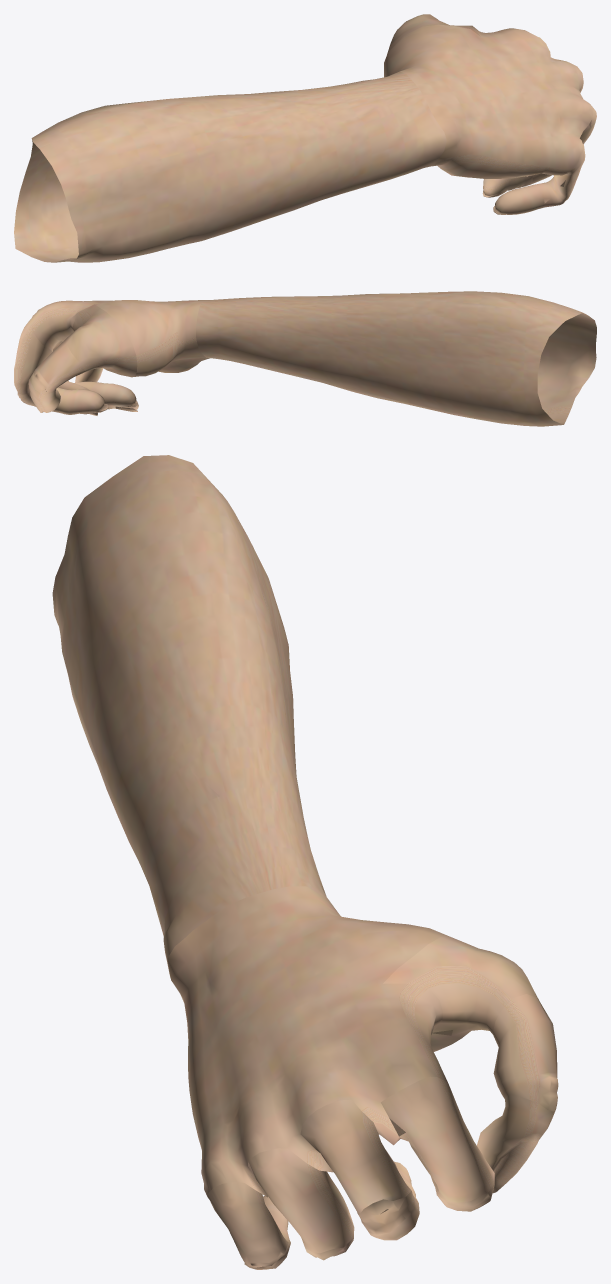
The model's file is Right_hand.obj.
The picture shows the model from 3 angles, top to bottom: view 1: azimuth 30°, elevation 25°; view 2: azimuth 150°, elevation 25°; view 3: azimuth 270°, elevation 25°; orthographic projection. The views are drawn at different scales.
Parts seen in each view (by area): view 1: Right_hand_polySurface1 polySurface59, polySurface58 Right_hand_polySurface1, Right_hand_polySurface1 polySurface73, Right_hand_polySurface1 polySurface61, Right_hand_polySurface1 polySurface74, Right_hand_polySurface1 polySurface71, Right_hand_polySurface1 polySurface69; view 2: Right_hand_polySurface1 polySurface59, polySurface58 Right_hand_polySurface1, Right_hand_polySurface1 polySurface61, Right_hand_polySurface1 polySurface63, Right_hand_polySurface1 polySurface65, Right_hand_polySurface1 polySurface60, Right_hand_polySurface1 polySurface71, Right_hand_polySurface1 polySurface62, Right_hand_polySurface1 polySurface69, Right_hand_polySurface1 polySurface67; view 3: Right_hand_polySurface1 polySurface59, polySurface58 Right_hand_polySurface1, Right_hand_polySurface1 polySurface61, Right_hand_polySurface1 polySurface65, Right_hand_polySurface1 polySurface64, Right_hand_polySurface1 polySurface68, Right_hand_polySurface1 polySurface63, Right_hand_polySurface1 polySurface69, Right_hand_polySurface1 polySurface62, Right_hand_polySurface1 polySurface66.
Part boxes in pixels (x1,y1,x2,y2): Right_hand_polySurface1 polySurface59: (14,71,446,262); polySurface58 Right_hand_polySurface1: (384,24,593,178); Right_hand_polySurface1 polySurface73: (493,187,532,214); Right_hand_polySurface1 polySurface61: (385,14,480,59); Right_hand_polySurface1 polySurface74: (523,180,564,211); Right_hand_polySurface1 polySurface71: (482,175,532,197); Right_hand_polySurface1 polySurface69: (550,156,585,201); Right_hand_polySurface1 polySurface59: (196,291,596,426); polySurface58 Right_hand_polySurface1: (30,300,210,377); Right_hand_polySurface1 polySurface61: (65,304,137,377); Right_hand_polySurface1 polySurface63: (31,340,84,393); Right_hand_polySurface1 polySurface65: (14,320,52,394); Right_hand_polySurface1 polySurface60: (59,389,108,414); Right_hand_polySurface1 polySurface71: (89,382,137,407); Right_hand_polySurface1 polySurface62: (28,374,60,412); Right_hand_polySurface1 polySurface69: (75,368,103,382); Right_hand_polySurface1 polySurface67: (17,387,67,412); Right_hand_polySurface1 polySurface59: (52,455,335,971); polySurface58 Right_hand_polySurface1: (167,886,448,1197); Right_hand_polySurface1 polySurface61: (383,936,539,1051); Right_hand_polySurface1 polySurface65: (381,1076,494,1203); Right_hand_polySurface1 polySurface64: (300,1099,411,1214); Right_hand_polySurface1 polySurface68: (248,1148,353,1253); Right_hand_polySurface1 polySurface63: (493,994,558,1111); Right_hand_polySurface1 polySurface69: (207,1182,288,1267); Right_hand_polySurface1 polySurface62: (477,1094,555,1193); Right_hand_polySurface1 polySurface66: (358,1187,419,1240).
Bounding box in the file's own units: 14.84 × 5.27 × 6.44.
1 material, 1 textured.
